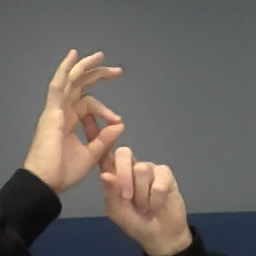OE: (26, 46, 192, 235)
